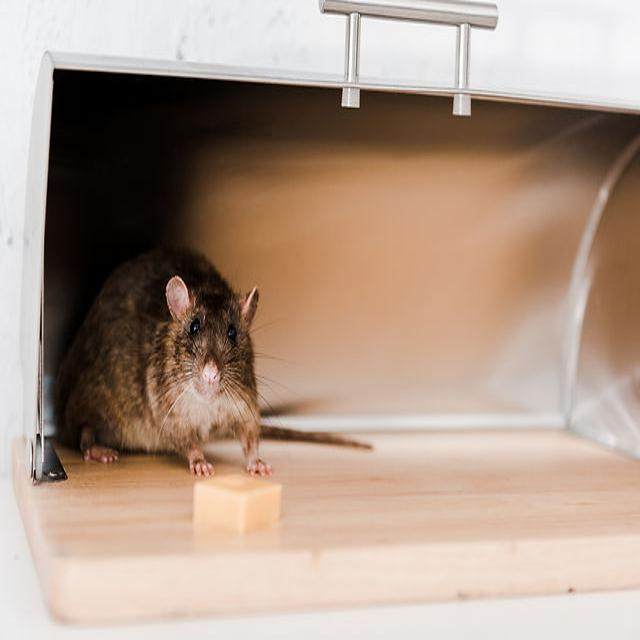rat: (50, 237, 301, 478)
